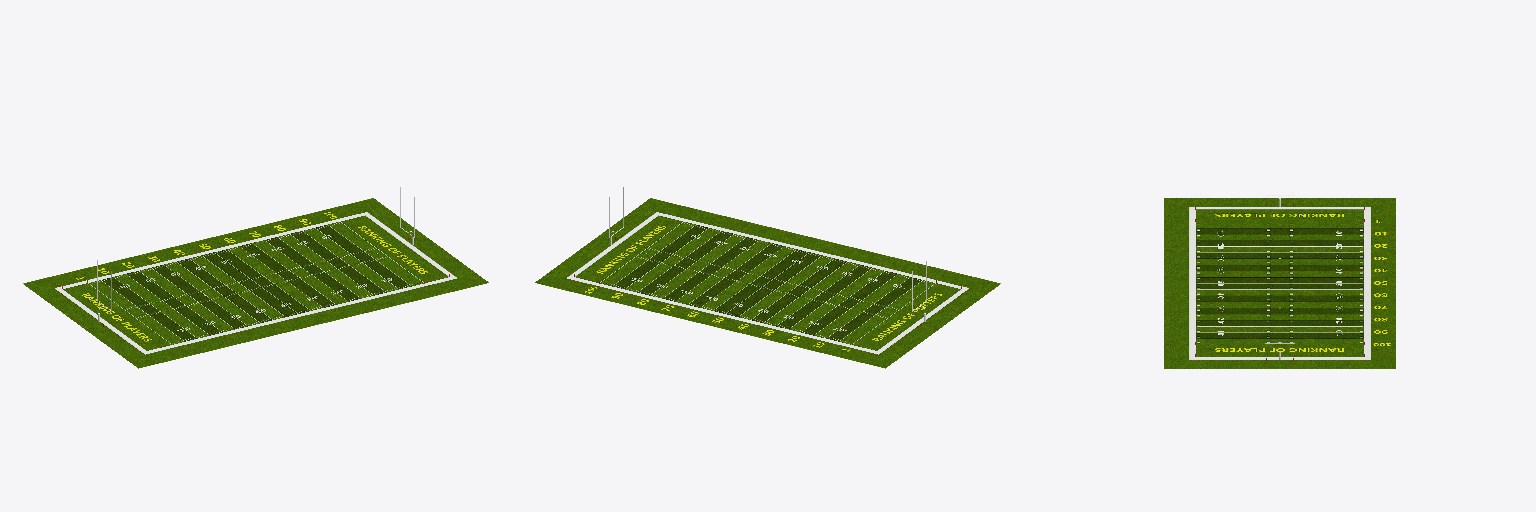
3 views of the same model, side by side, from view 1: azimuth 30°, elevation 25°; view 2: azimuth 150°, elevation 25°; view 3: azimuth 270°, elevation 25° (orthographic).
Parts seen in each view (by area): view 1: nfl_football_field; view 2: nfl_football_field; view 3: nfl_football_field.
Part boxes in pixels (bbox=[...]): nfl_football_field: bbox=[23, 198, 488, 368]; nfl_football_field: bbox=[535, 198, 1000, 368]; nfl_football_field: bbox=[1164, 198, 1395, 368].
Bounding box in the file's own units: 8.94 × 1.33 × 5.12.
Materials: 4 (2 with a texture image).